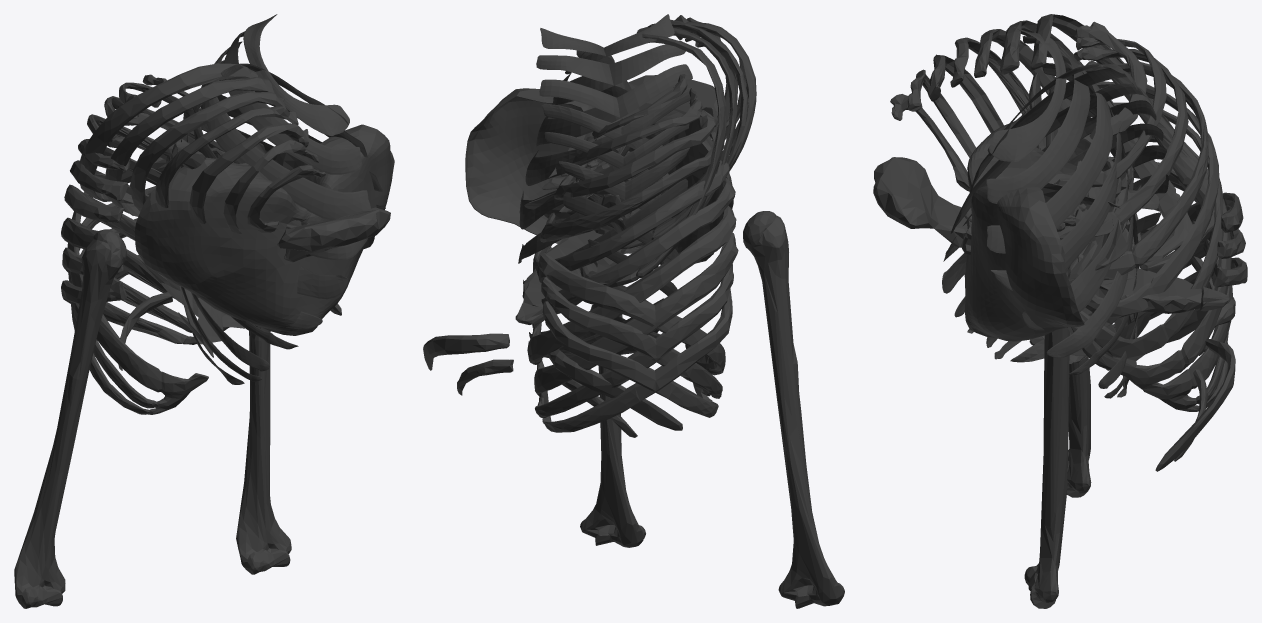
The model's file is sharedassets55.glb.
3 views of the same model, side by side, from view 1: azimuth 30°, elevation 25°; view 2: azimuth 150°, elevation 25°; view 3: azimuth 270°, elevation 25° (orthographic). The views are drawn at different scales.
Parts seen in each view (by area): view 1: 0064_Diaphragm__100097, 0001_Internal intercostal, R__1000219, 0006_Humerus _arm, brachium_, L__000796, 0007_Humerus _arm, brachium_, R__000807, 0051_Seventh rib _07_, R__002279, 0050_Sixth rib _06_, R__002278, 0042_Eighth rib _08_, R__002280, 0038_Manubrium__001162, 0049_Fifth rib _05_, R__002277, 0000_Internal intercostal, L__1000218, 0047_Third rib _03_, R__002275, 0048_Fourth rib _04_, R__002276 (+14 smaller); view 2: 0000_Internal intercostal, L__1000218, 0006_Humerus _arm, brachium_, L__000796, 0064_Diaphragm__100097, 0001_Internal intercostal, R__1000219, 0007_Humerus _arm, brachium_, R__000807, 0054_Eighth rib _08_, L__002292, 0063_Seventh rib _07_, L__002291, 0042_Eighth rib _08_, R__002280, 0056_Tenth rib _10_, L__002294, 0044_Tenth rib _10_, R__002282, 0055_Ninth rib _09_, L__002293, 0043_Ninth rib _09_, R__002281 (+16 smaller); view 3: 0000_Internal intercostal, L__1000218, 0064_Diaphragm__100097, 0001_Internal intercostal, R__1000219, 0007_Humerus _arm, brachium_, R__000807, 0038_Manubrium__001162, 0061_Fifth rib _05_, L__002289, 0060_Fourth rib _04_, L__002288, 0062_Sixth rib _06_, L__002290, 0051_Seventh rib _07_, R__002279, 0063_Seventh rib _07_, L__002291, 0059_Third rib _03_, L__002287, 0006_Humerus _arm, brachium_, L__000796 (+20 smaller).
Boxes of the visible parts, left/top/right/bottom form: 0064_Diaphragm__100097: left=135, top=124, right=394, bottom=335; 0001_Internal intercostal, R__1000219: left=179, top=14, right=370, bottom=384; 0006_Humerus _arm, brachium_, L__000796: left=14, top=229, right=126, bottom=608; 0007_Humerus _arm, brachium_, R__000807: left=236, top=325, right=291, bottom=574; 0051_Seventh rib _07_, R__002279: left=79, top=63, right=257, bottom=203; 0050_Sixth rib _06_, R__002278: left=105, top=77, right=274, bottom=216; 0042_Eighth rib _08_, R__002280: left=67, top=157, right=208, bottom=399; 0038_Manubrium__001162: left=277, top=207, right=390, bottom=260; 0049_Fifth rib _05_, R__002277: left=130, top=92, right=285, bottom=211; 0000_Internal intercostal, L__1000218: left=161, top=63, right=385, bottom=357; 0047_Third rib _03_, R__002275: left=189, top=123, right=308, bottom=224; 0048_Fourth rib _04_, R__002276: left=155, top=106, right=298, bottom=207; 0000_Internal intercostal, L__1000218: left=518, top=14, right=693, bottom=357; 0006_Humerus _arm, brachium_, L__000796: left=743, top=211, right=844, bottom=608; 0064_Diaphragm__100097: left=465, top=88, right=733, bottom=265; 0001_Internal intercostal, R__1000219: left=536, top=28, right=678, bottom=354; 0007_Humerus _arm, brachium_, R__000807: left=580, top=230, right=645, bottom=547; 0054_Eighth rib _08_, L__002292: left=534, top=232, right=738, bottom=397; 0063_Seventh rib _07_, L__002291: left=527, top=206, right=736, bottom=364; 0042_Eighth rib _08_, R__002280: left=538, top=253, right=725, bottom=375; 0056_Tenth rib _10_, L__002294: left=542, top=289, right=732, bottom=432; 0044_Tenth rib _10_, R__002282: left=542, top=301, right=718, bottom=417; 0055_Ninth rib _09_, L__002293: left=535, top=264, right=733, bottom=417; 0043_Ninth rib _09_, R__002281: left=541, top=277, right=722, bottom=398; 0000_Internal intercostal, L__1000218: left=986, top=26, right=1139, bottom=398; 0064_Diaphragm__100097: left=964, top=109, right=1159, bottom=341; 0001_Internal intercostal, R__1000219: left=942, top=64, right=1168, bottom=370; 0007_Humerus _arm, brachium_, R__000807: left=1024, top=327, right=1069, bottom=608; 0038_Manubrium__001162: left=873, top=157, right=967, bottom=247; 0061_Fifth rib _05_, L__002289: left=1085, top=81, right=1219, bottom=323; 0060_Fourth rib _04_, L__002288: left=1077, top=61, right=1208, bottom=280; 0062_Sixth rib _06_, L__002290: left=1079, top=102, right=1223, bottom=360; 0051_Seventh rib _07_, R__002279: left=1031, top=14, right=1226, bottom=270; 0063_Seventh rib _07_, L__002291: left=1067, top=135, right=1231, bottom=389; 0059_Third rib _03_, L__002287: left=1073, top=46, right=1188, bottom=225; 0006_Humerus _arm, brachium_, L__000796: left=1057, top=127, right=1091, bottom=497.
Size of the model in its own units: 0.1669 by 0.2251 by 0.1375.
Materials: 1 (1 with a texture image).
